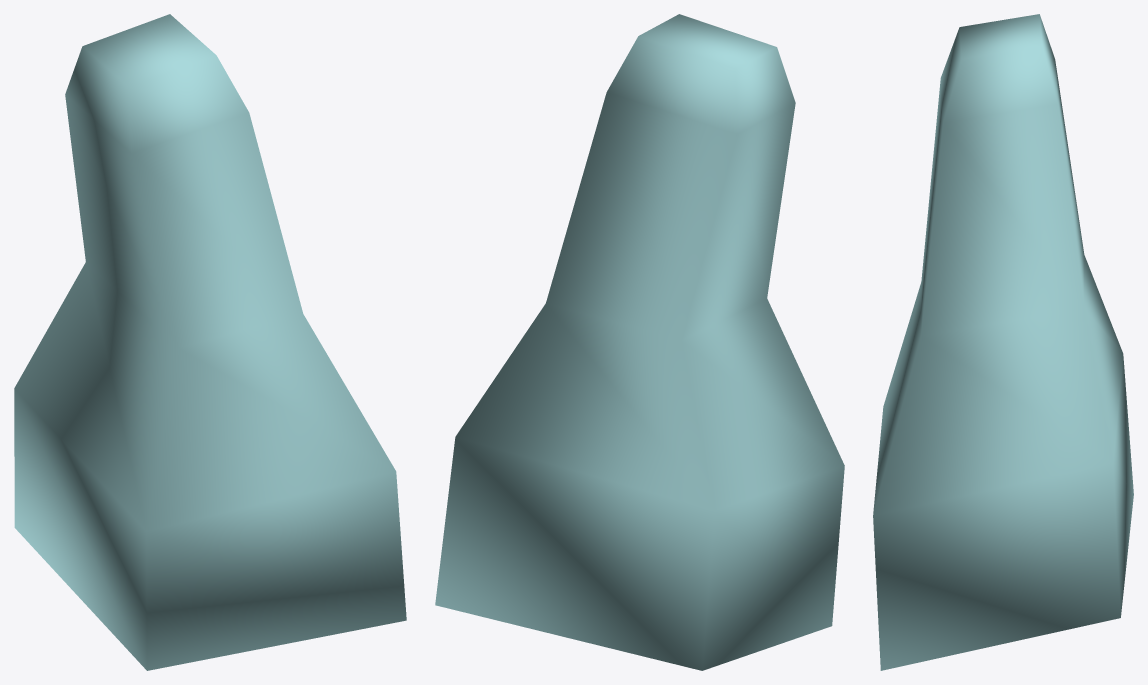
The model's file is Skelly_thumb.03.R.fbx.
3 views of the same model, side by side, from view 1: azimuth 30°, elevation 25°; view 2: azimuth 150°, elevation 25°; view 3: azimuth 270°, elevation 25° (orthographic). The views are drawn at different scales.
Parts seen in each view (by area): view 1: Skelly_thumb.03.R; view 2: Skelly_thumb.03.R; view 3: Skelly_thumb.03.R.
Boxes of the visible parts, box(x1,y1,x2,y2) form: Skelly_thumb.03.R: box(14, 14, 406, 670); Skelly_thumb.03.R: box(435, 14, 844, 670); Skelly_thumb.03.R: box(873, 14, 1133, 670).
Size of the model in its own units: 1.19 by 2.49 by 1.06.
